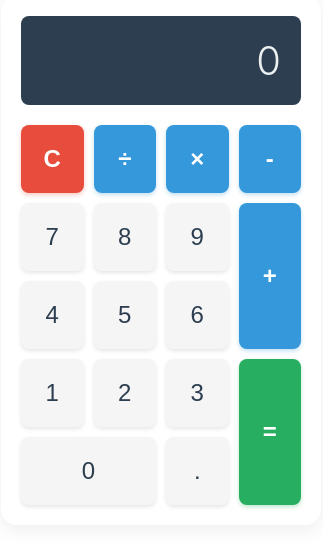
Calculator Component › 小数点ボタンが正しく動作する
What coordinates should you click on to do the following:
click the button with test id "btn-1"
I would click on:
 (52, 393)
Its box is [21,359,84,427].
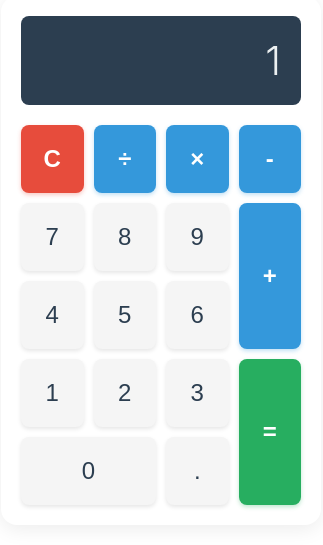
What coordinates should you click on to do the following:
click the button with test id "btn-decimal"
I would click on:
 (197, 471)
Its box is [166,437,228,505].
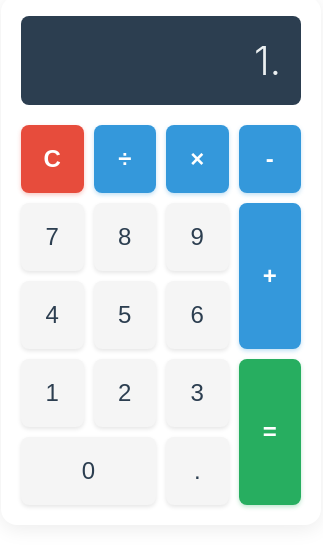
What coordinates should you click on to do the following:
click the button with test id "btn-5"
I would click on:
 (125, 315)
Its box is [94,281,156,349].
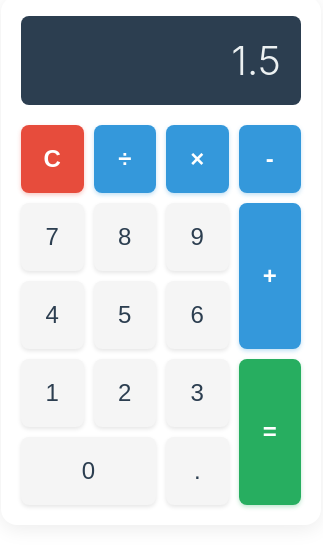
Now the text with test id "display" reads "1.5", box [231,36,281,85]
